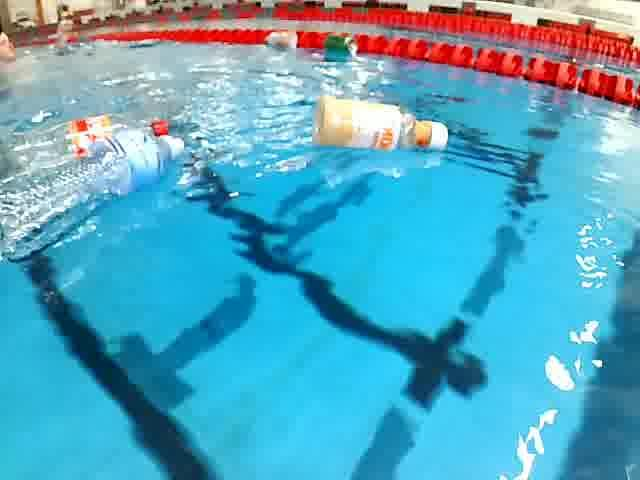Bottle: (0, 124, 200, 255), (0, 110, 176, 177), (300, 92, 455, 163), (259, 29, 306, 53)
Can: (319, 33, 368, 59)
